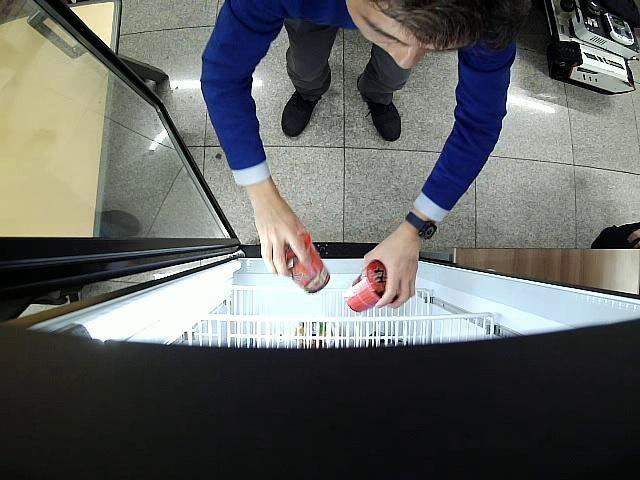02_shinRamen_S: (284, 233, 330, 294), (344, 260, 386, 312)
